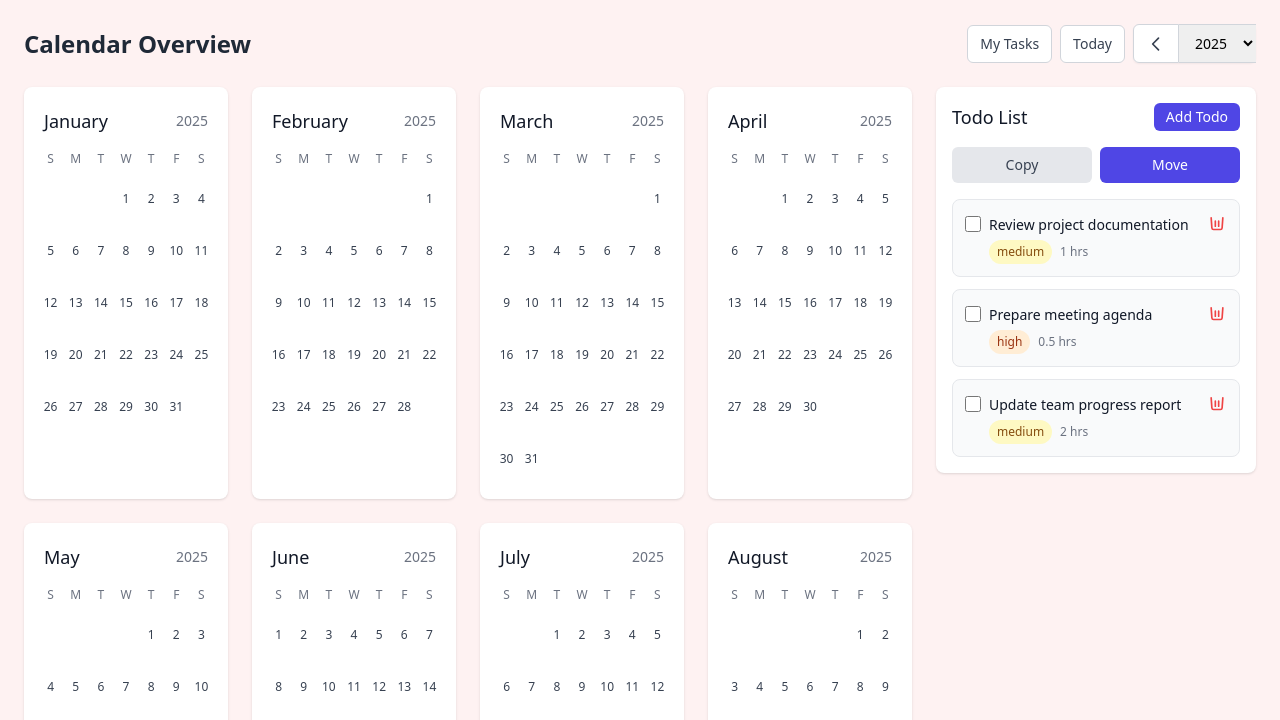
Test: EnhancedCalendar - Rebuilt › opens todo form when Add Todo button is clicked
Step 1. Click the button "Add Todo" → x=1197, y=117, box [1154,103,1240,131]
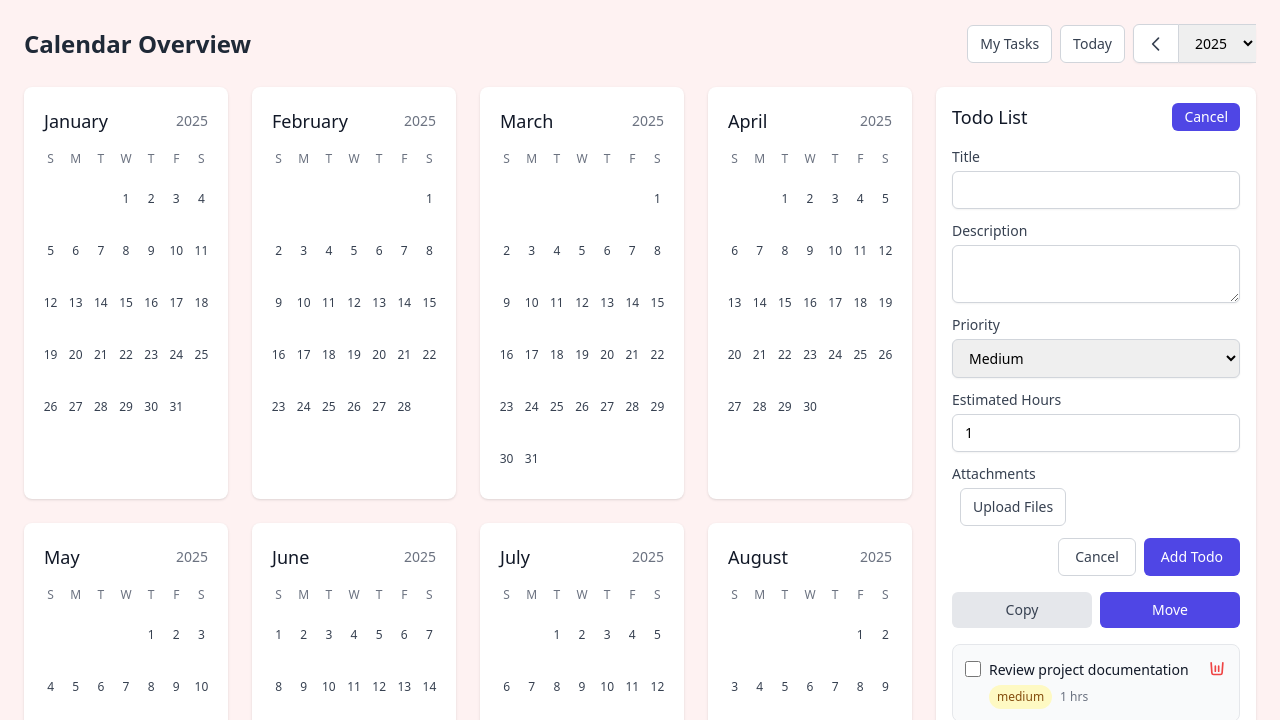
Expected: the field labelled "Title" is shown, [952,171,1240,209]
Expected: the text box labelled "Description" is shown, [952,245,1240,303]
